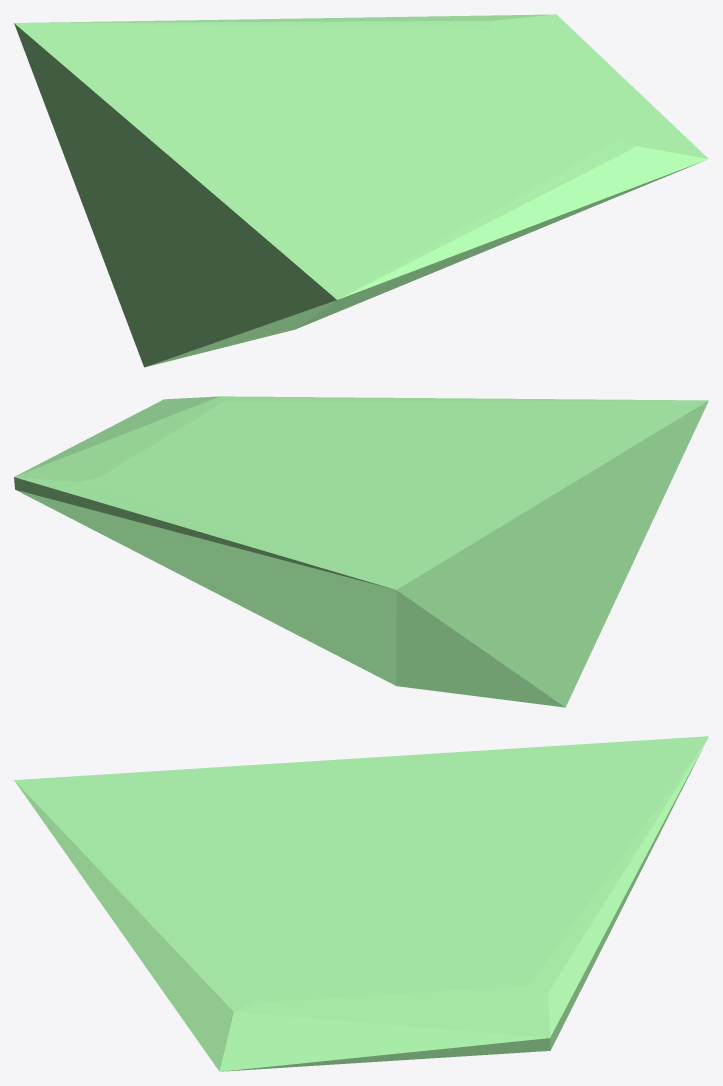
The model's file is UMIRobot_UMIRobot_link_5_convex_coll_12.dae.
The picture shows the model from 3 angles, top to bottom: view 1: azimuth 30°, elevation 25°; view 2: azimuth 150°, elevation 25°; view 3: azimuth 270°, elevation 25°; orthographic projection. The views are drawn at different scales.
Visible parts, largest first — view 1: node; view 2: node; view 3: node.
Part boxes in pixels (<box>): node: <box>14,14,708,367</box>; node: <box>14,396,708,707</box>; node: <box>14,736,708,1071</box>.
Bounding box in the file's own units: 0.0251 × 0.0113 × 0.0286.
